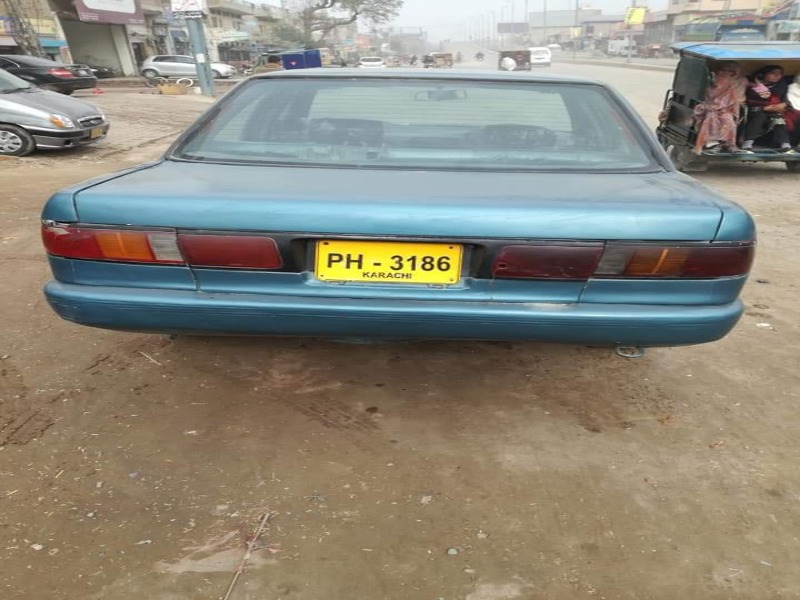License Plate: (314, 234, 467, 291)
